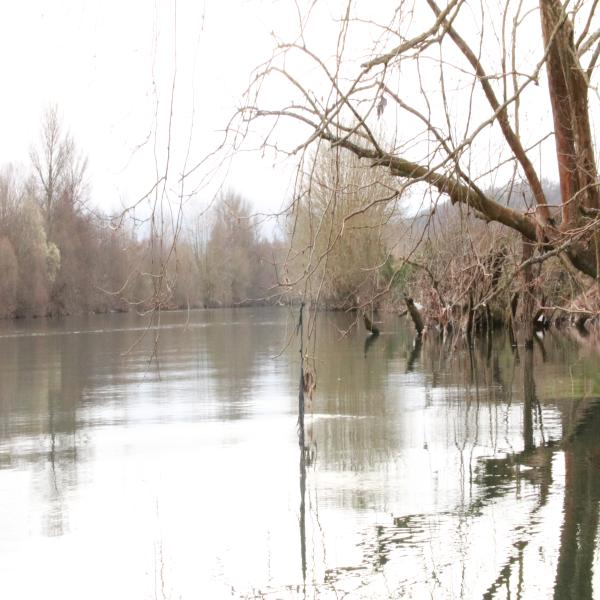others: (296, 301, 305, 470)
